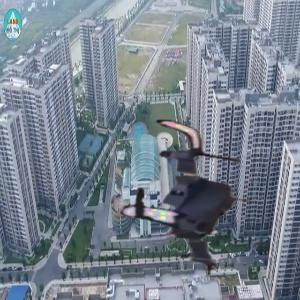drone: (103, 118, 264, 279)
